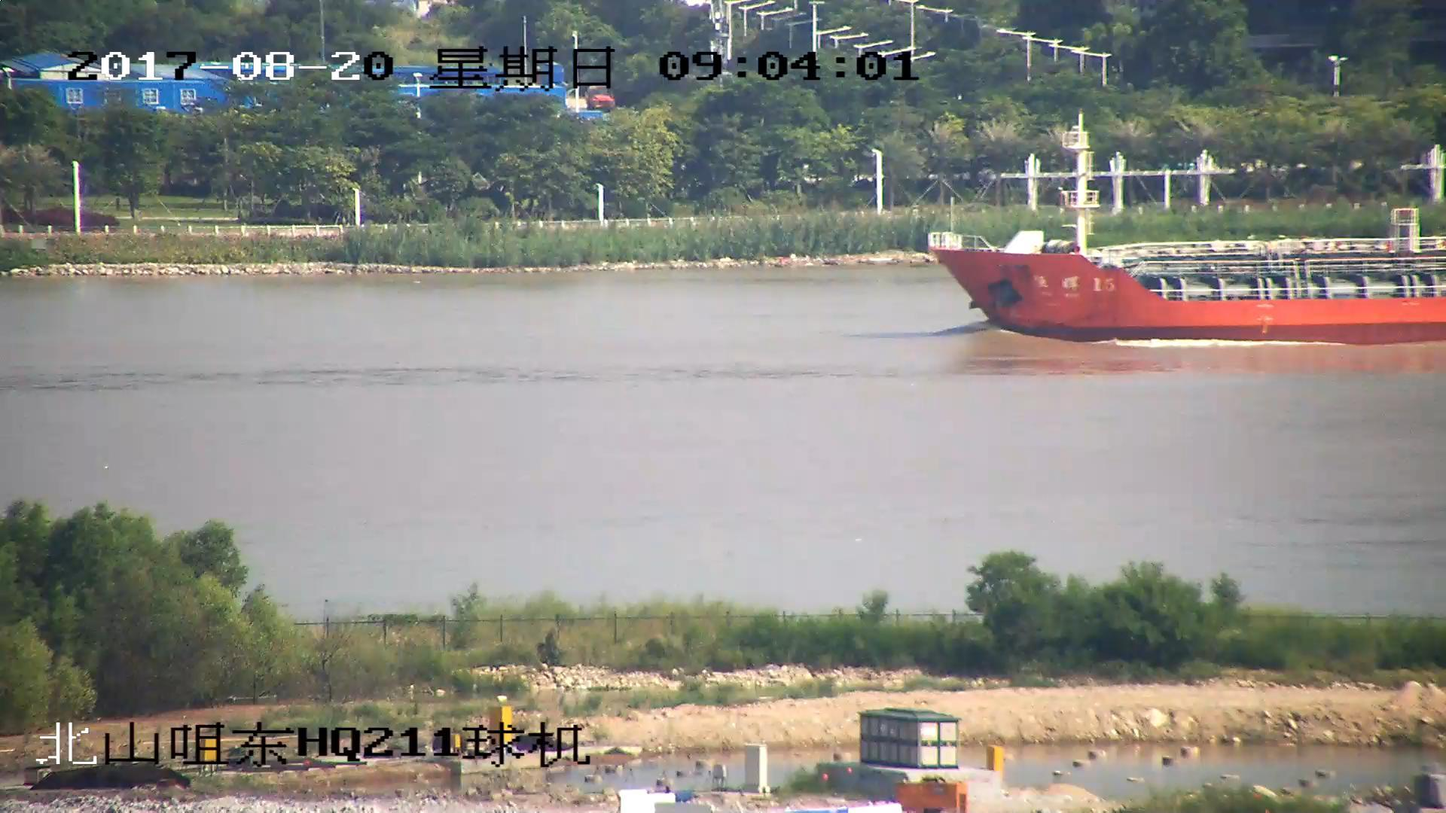general cargo ship: (937, 127, 1445, 346)
